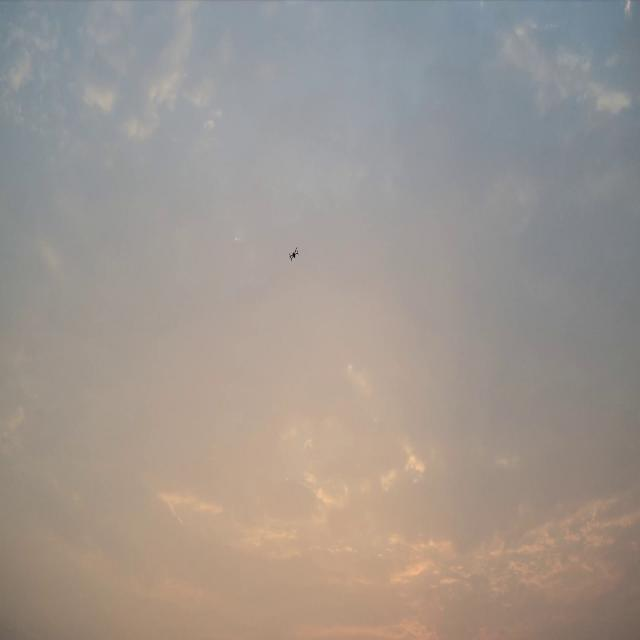drone: (290, 247, 298, 261)
